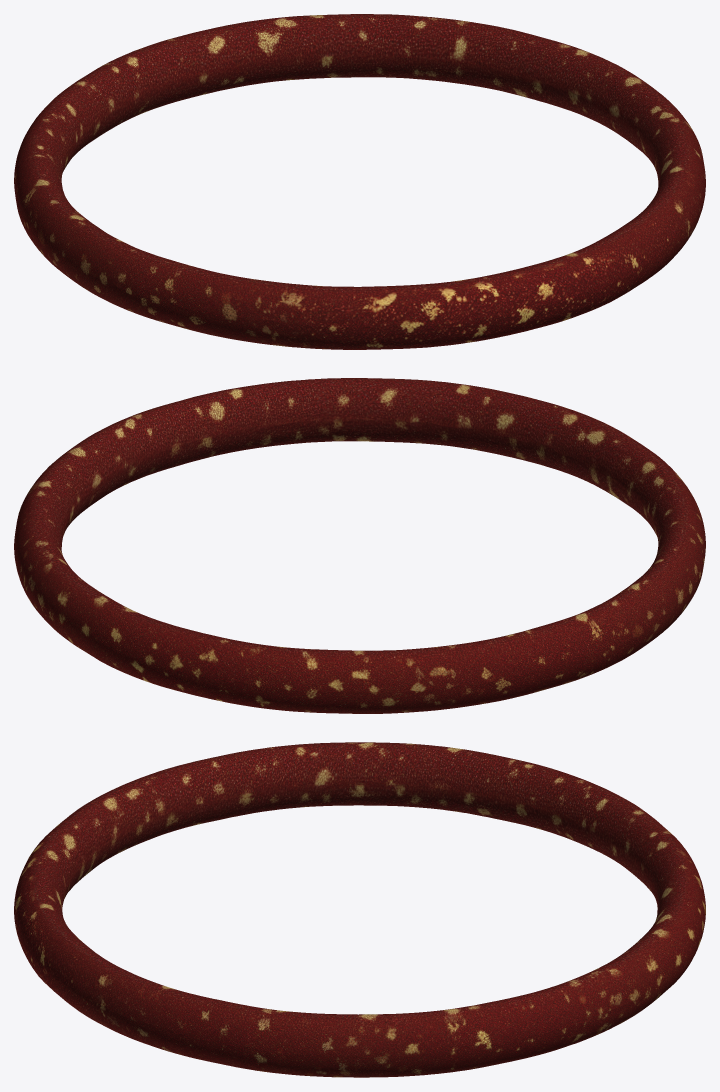
Rendered from ring_lacquer.glb.
The picture shows the model from 3 angles, top to bottom: view 1: azimuth 30°, elevation 25°; view 2: azimuth 150°, elevation 25°; view 3: azimuth 270°, elevation 25°; orthographic projection.
Size of the model in its own units: 1.9 by 0.1828 by 1.9.
1 material, 1 textured.
